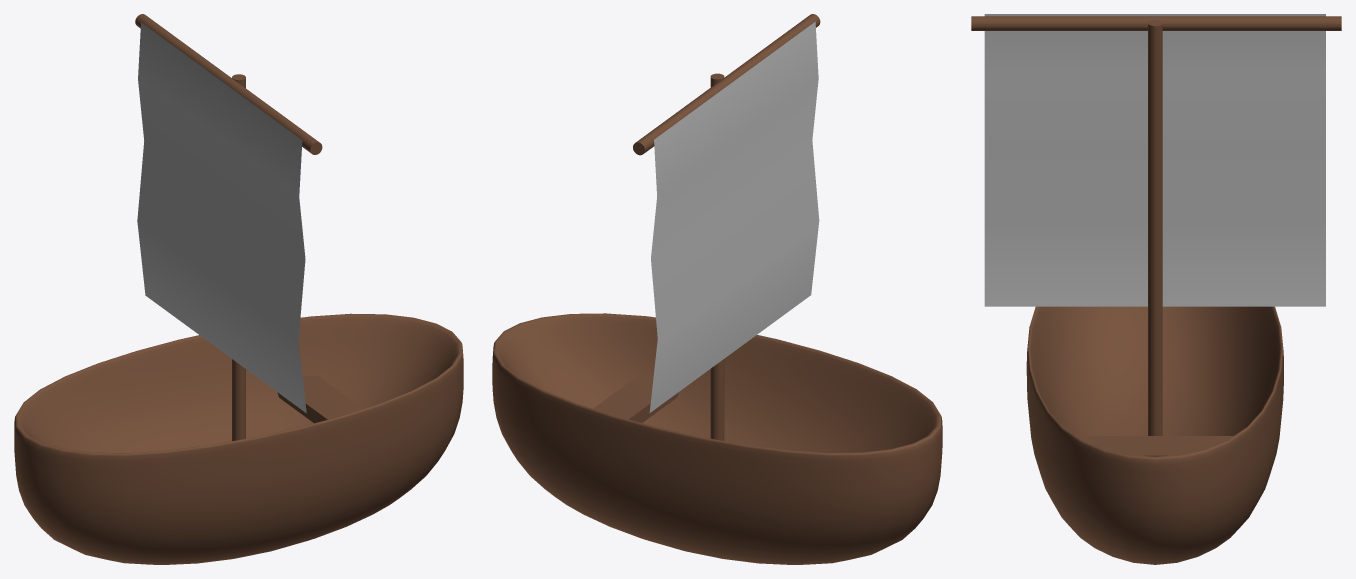
File: лодочка.fbx
3 views of the same model, side by side, from view 1: azimuth 30°, elevation 25°; view 2: azimuth 150°, elevation 25°; view 3: azimuth 270°, elevation 25° (orthographic). The views are drawn at different scales.
Parts seen in each view (by area): view 1: Cube, Plane, Cylinder.001, Cube.001, Cylinder; view 2: Cube, Plane, Cylinder.001, Cube.001, Cylinder; view 3: Plane, Cube, Cylinder, Cylinder.001, Cube.001.
Boxes of the visible parts, x1,y1,x2,y2 form: Cube: (14,313,463,564); Plane: (137,22,306,413); Cylinder.001: (135,14,322,154); Cube.001: (277,375,362,423); Cylinder: (232,74,245,441); Cube: (492,313,942,564); Plane: (649,21,819,412); Cylinder.001: (633,14,820,155); Cube.001: (593,375,678,422); Cylinder: (710,73,724,440); Plane: (984,14,1325,306); Cube: (1026,306,1283,564); Cylinder: (1148,20,1162,435); Cylinder.001: (971,16,1341,30); Cube.001: (1077,436,1233,456).
Bounding box in the file's own units: 967 × 994 × 681.
